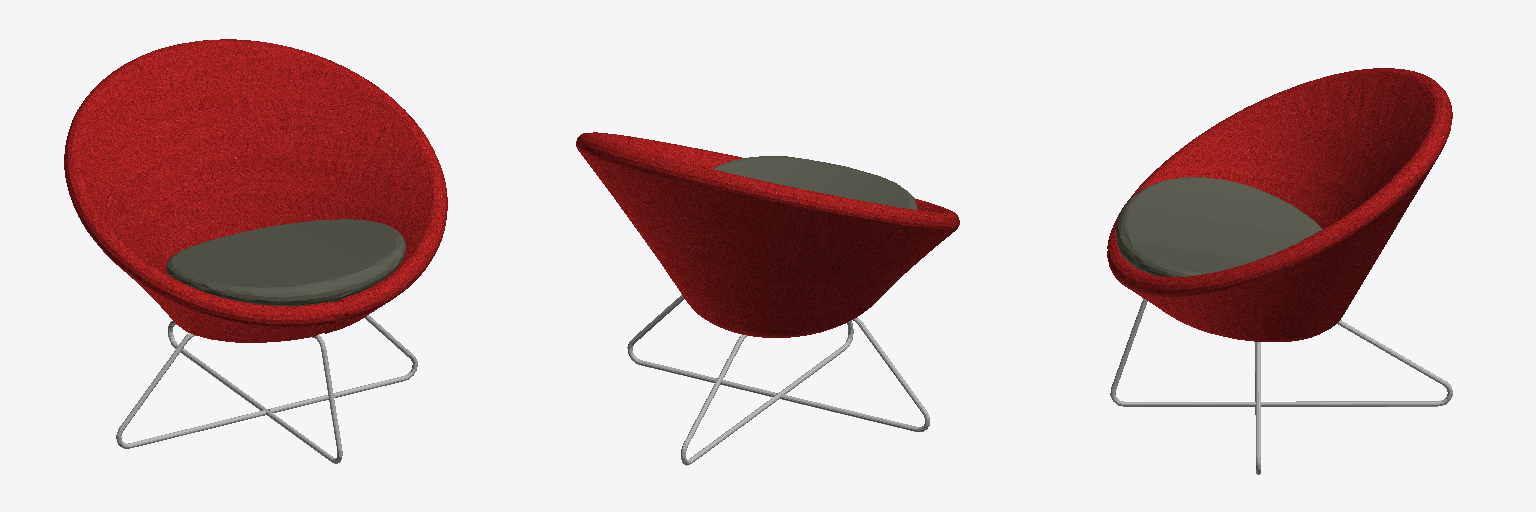
The picture shows the model from 3 angles: view 1: azimuth 30°, elevation 25°; view 2: azimuth 150°, elevation 25°; view 3: azimuth 270°, elevation 25°; orthographic projection.
Visible parts, largest first — view 1: Mesh1_Conic_Seat1_Model, Mesh7_Conic_Cush1_Model, Mesh4_Conic_Fram_1_1_Model, Mesh5_Conic_Fram_1_1_Model, Mesh6_Conic_Fram_1_1_Model; view 2: Mesh1_Conic_Seat1_Model, Mesh7_Conic_Cush1_Model, Mesh4_Conic_Fram_1_1_Model, Mesh5_Conic_Fram_1_1_Model, Mesh6_Conic_Fram_1_1_Model; view 3: Mesh1_Conic_Seat1_Model, Mesh7_Conic_Cush1_Model, Mesh4_Conic_Fram_1_1_Model, Mesh6_Conic_Fram_1_1_Model.
Boxes of the visible parts, x1,y1,x2,y2 form: Mesh1_Conic_Seat1_Model: [64, 39, 447, 342]; Mesh7_Conic_Cush1_Model: [166, 219, 405, 305]; Mesh4_Conic_Fram_1_1_Model: [168, 321, 342, 463]; Mesh5_Conic_Fram_1_1_Model: [116, 333, 265, 448]; Mesh6_Conic_Fram_1_1_Model: [268, 315, 417, 412]; Mesh1_Conic_Seat1_Model: [576, 132, 959, 337]; Mesh7_Conic_Cush1_Model: [713, 156, 917, 209]; Mesh4_Conic_Fram_1_1_Model: [681, 320, 853, 465]; Mesh5_Conic_Fram_1_1_Model: [780, 317, 929, 431]; Mesh6_Conic_Fram_1_1_Model: [627, 295, 777, 396]; Mesh1_Conic_Seat1_Model: [1107, 68, 1452, 341]; Mesh7_Conic_Cush1_Model: [1116, 177, 1322, 276]; Mesh4_Conic_Fram_1_1_Model: [1110, 298, 1452, 406]; Mesh6_Conic_Fram_1_1_Model: [1255, 342, 1260, 474].
Size of the model in its own units: 12.84 by 10.78 by 11.22.
Materials: 5 (1 with a texture image).